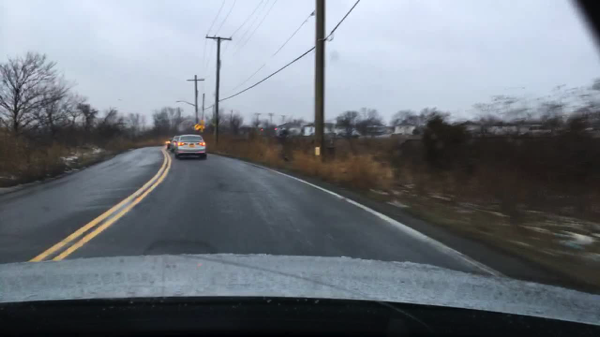car: (177, 136, 207, 160), (170, 135, 179, 153), (166, 138, 172, 150)
traffic sign: (195, 123, 205, 132)
